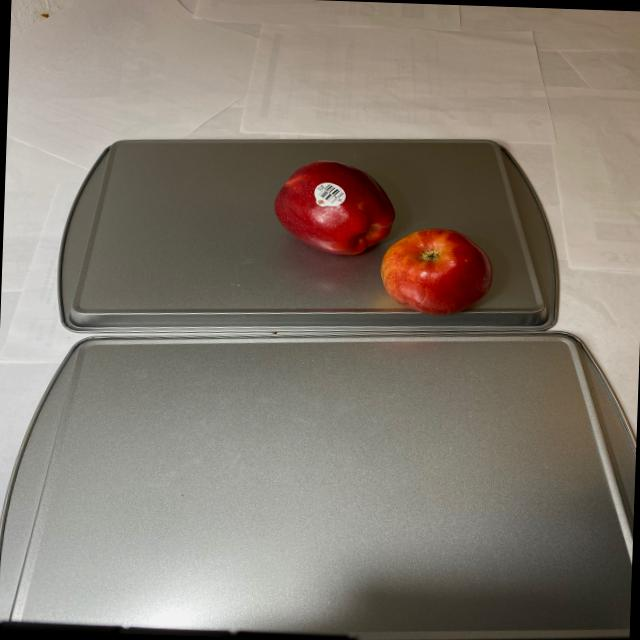apple: (269, 158, 500, 316)
